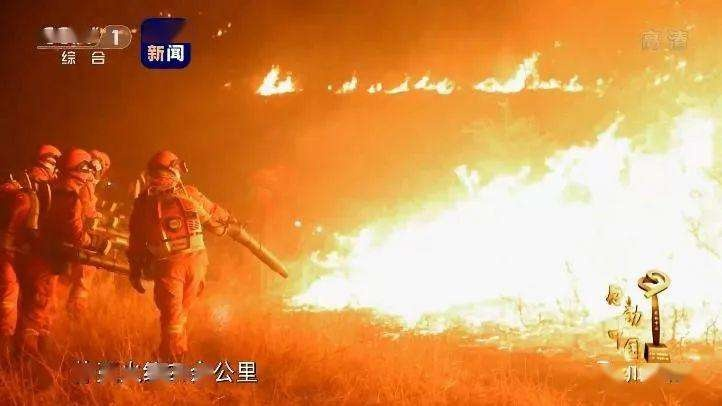fire: (295, 127, 718, 364), (248, 57, 613, 95)
